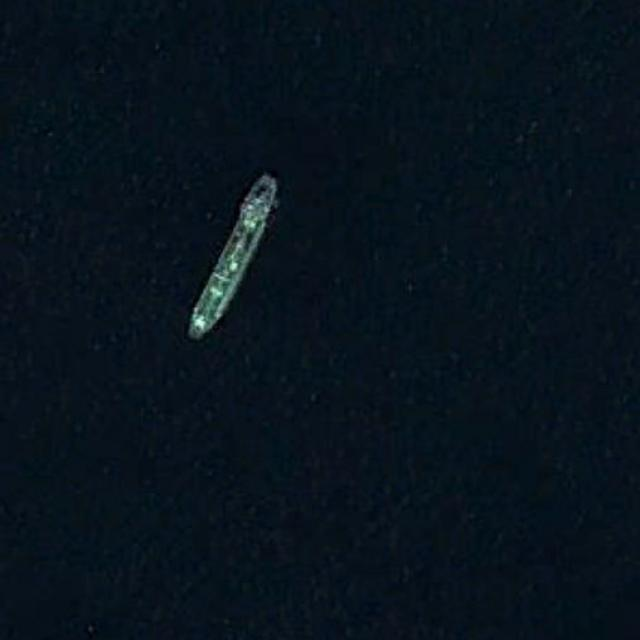boat: (188, 173, 278, 342)
